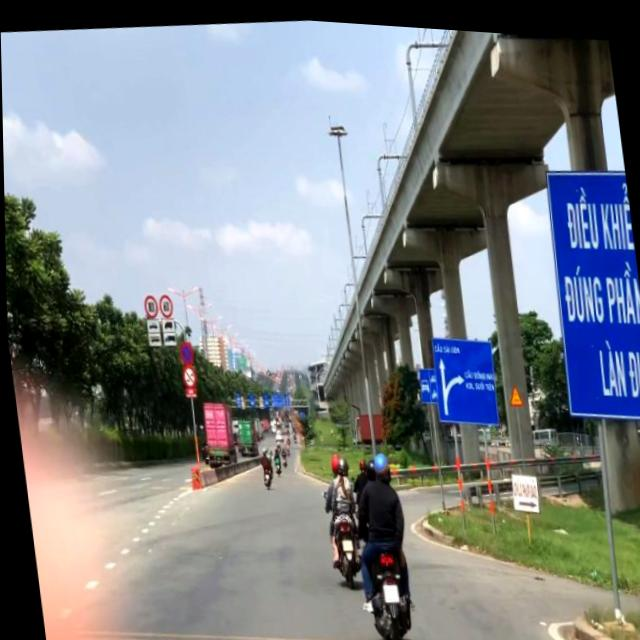Cam dung xe va do xe: (177, 337, 193, 364)
Di cham: (506, 375, 522, 401)
Toc do toi da cho phep: (140, 292, 157, 318), (156, 290, 172, 317)
